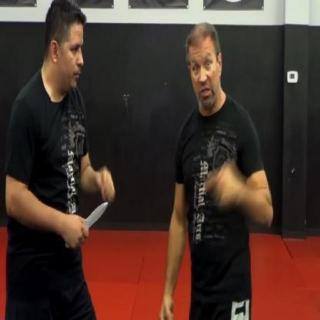knife: (63, 198, 110, 250)
